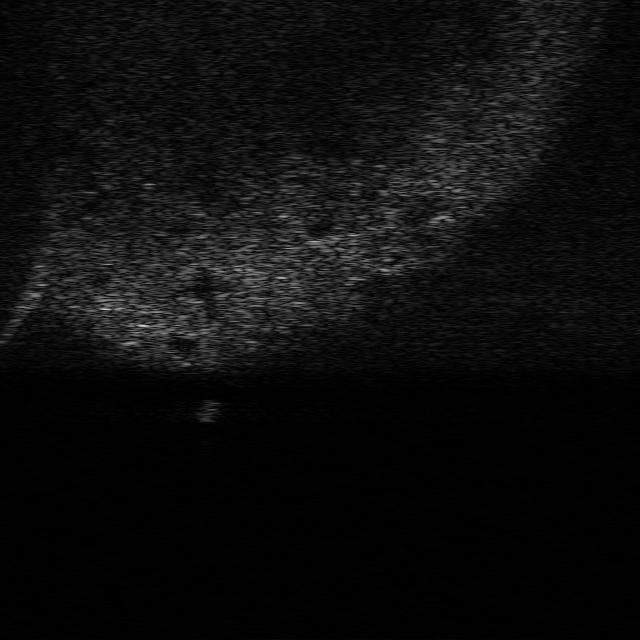cylinder: (192, 398, 224, 424)
